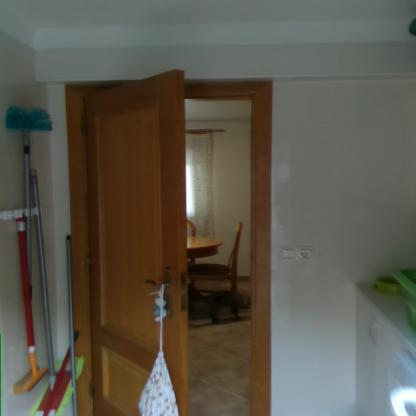semi: (60, 66, 276, 416)
